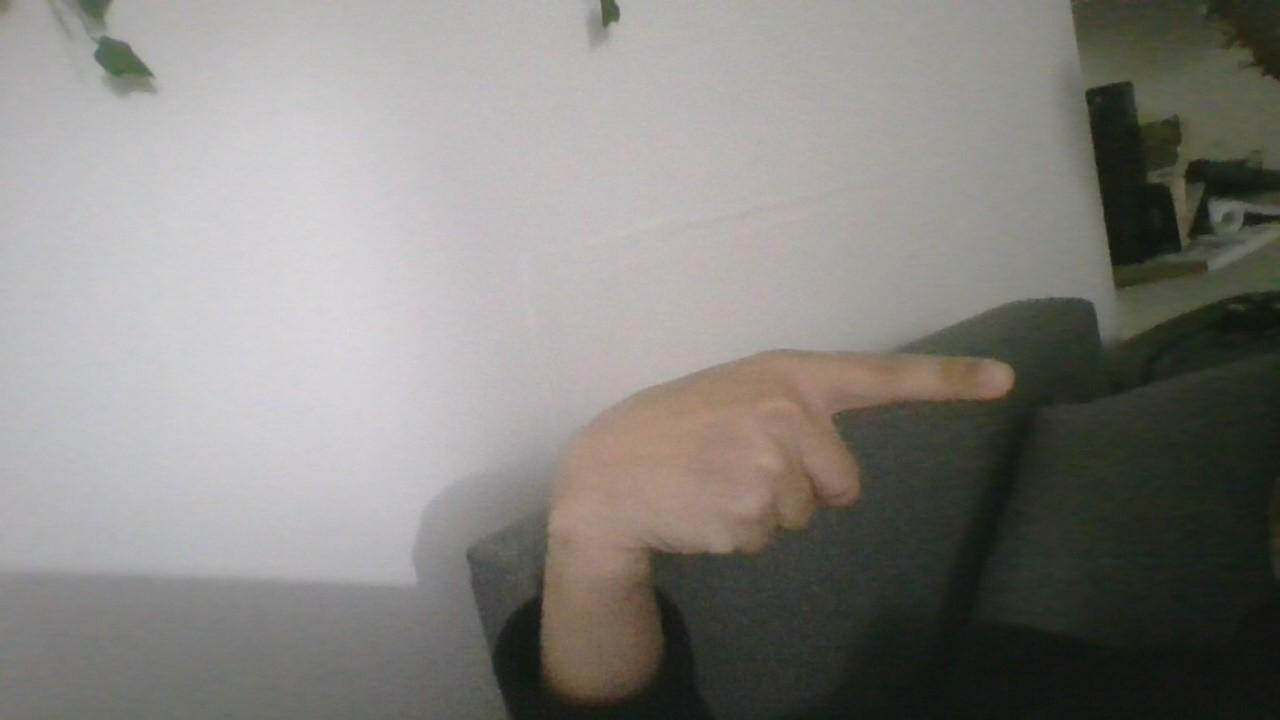right: (540, 337, 1030, 584)
